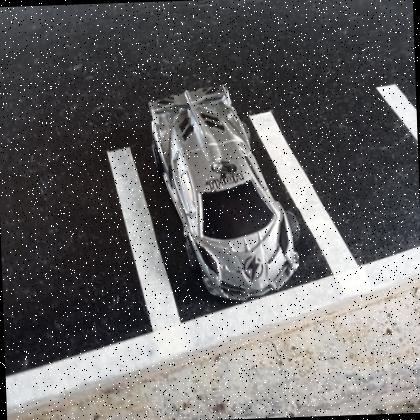Car: (149, 86, 300, 303)
